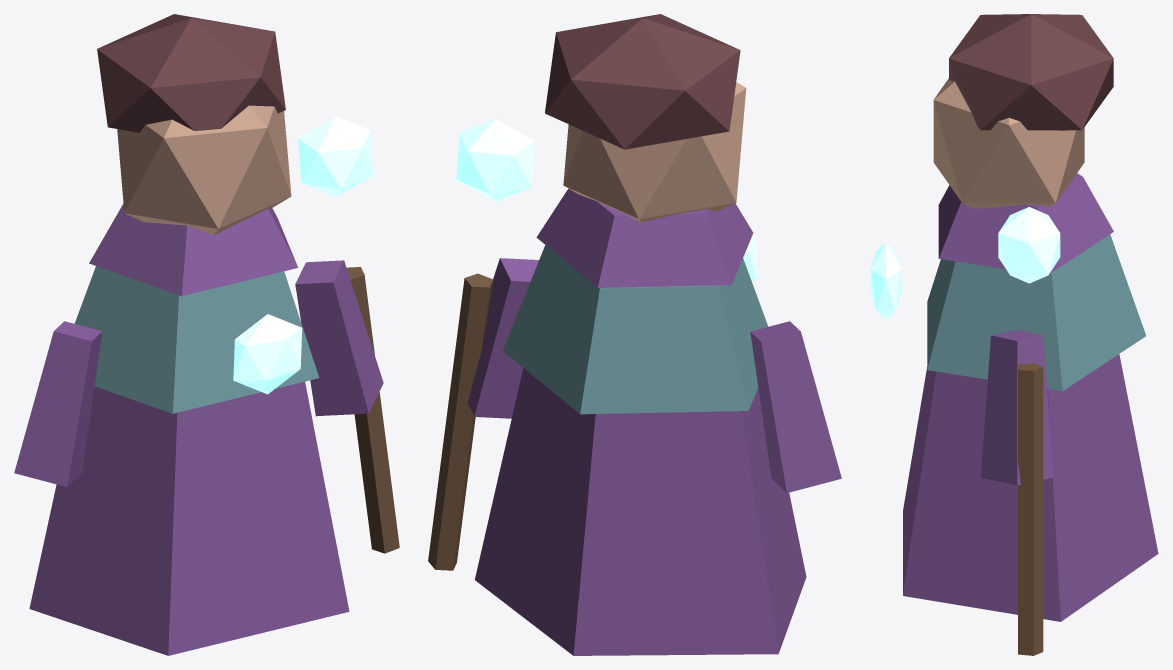
Rendered from lydia-v02.glb.
The picture shows the model from 3 angles, left to right: view 1: azimuth 30°, elevation 25°; view 2: azimuth 150°, elevation 25°; view 3: azimuth 270°, elevation 25°; orthographic projection. The views are drawn at different scales.
Parts seen in each view (by area): view 1: Lydia robe, Lydia mantle, Lydia hair, Lydia head, Lydia collar, Lydia arm.001, Lydia arm, Lydia staff, Lydia staff crystal, Lydia brooch; view 2: Lydia robe, Lydia mantle, Lydia hair, Lydia collar, Lydia head, Lydia arm, Lydia staff, Lydia arm.001, Lydia staff crystal; view 3: Lydia robe, Lydia mantle, Lydia hair, Lydia head, Lydia collar, Lydia staff, Lydia arm.001, Lydia staff crystal, Lydia brooch.
Part boxes in pixels (x1,y1,x2,y2): Lydia robe: (29, 381, 349, 655); Lydia mantle: (74, 266, 319, 413); Lydia hair: (97, 14, 285, 132); Lydia head: (117, 105, 291, 235); Lydia collar: (89, 203, 298, 296); Lydia arm.001: (295, 260, 383, 416); Lydia arm: (14, 321, 102, 486); Lydia staff: (346, 267, 399, 553); Lydia staff crystal: (297, 116, 373, 196); Lydia brooch: (233, 314, 302, 394); Lydia robe: (475, 368, 806, 655); Lydia mantle: (503, 245, 768, 414); Lydia hair: (545, 14, 740, 149); Lydia collar: (536, 188, 753, 287); Lydia head: (563, 82, 746, 222); Lydia arm: (750, 321, 841, 492); Lydia staff: (428, 273, 493, 570); Lydia arm.001: (467, 258, 538, 418); Lydia staff crystal: (456, 118, 534, 201); Lydia robe: (903, 354, 1158, 621); Lydia mantle: (927, 234, 1146, 391); Lydia hair: (949, 14, 1113, 130); Lydia head: (933, 78, 1084, 208); Lydia collar: (938, 173, 1113, 273); Lydia staff: (1018, 363, 1043, 655); Lydia arm.001: (981, 329, 1053, 485); Lydia staff crystal: (998, 207, 1060, 283); Lydia brooch: (870, 243, 901, 319).
Bounding box in the file's own units: 1.06 × 1.5 × 0.7133.
